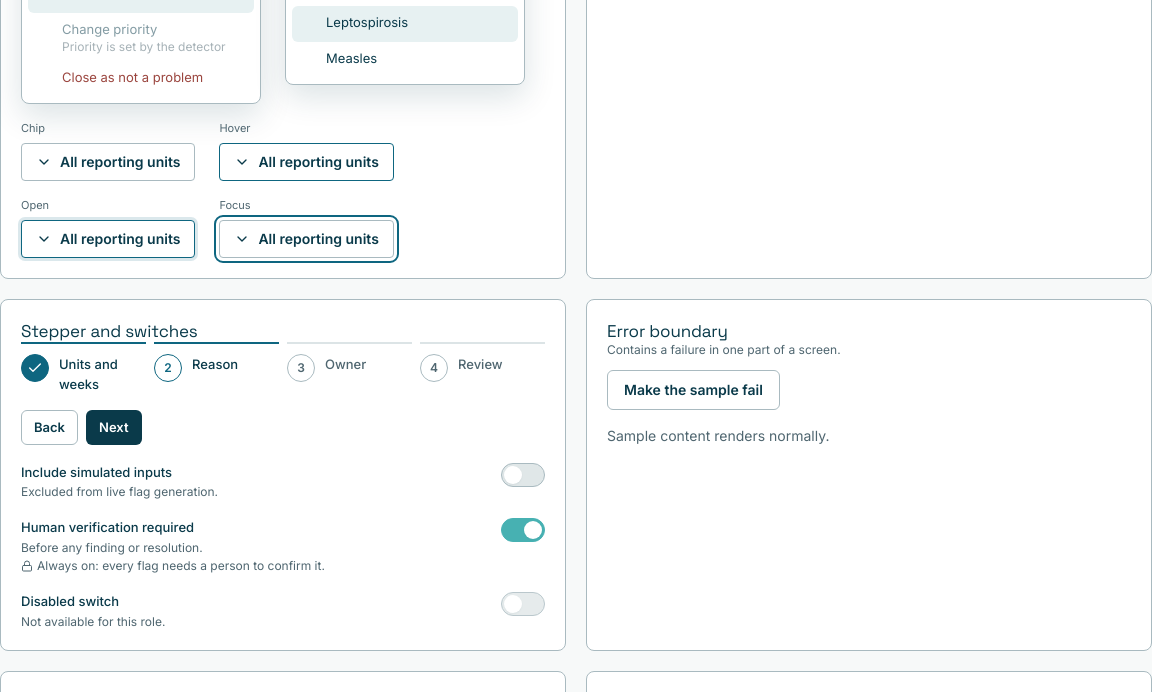
Test: Design preview shows the shared components › renders every component card with its states
(page scrolled)
Expected: the element "Stepper and switches" is shown, top-left (0, 299), bottom-right (566, 651)
Expected: the element "Error boundary" is shown, top-left (586, 299), bottom-right (1151, 651)
Click the button "Make the sample fail" at x=693, y=390, box top-left (607, 370), bottom-right (780, 410)
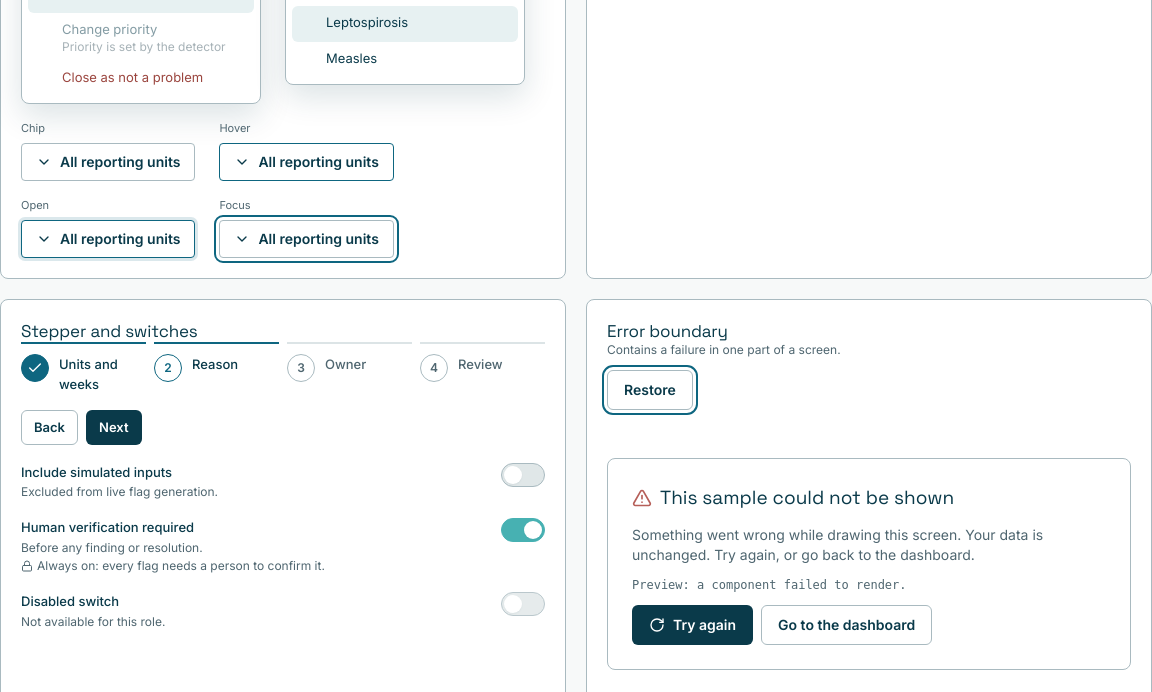
Now the message shows "This sample could not be shown", box top-left (660, 485), bottom-right (954, 510)
